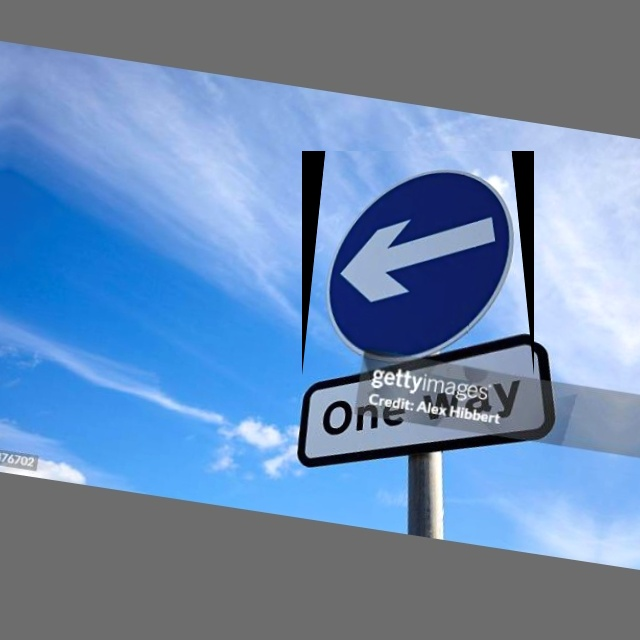Compulsory_Turn_Left: (302, 151, 534, 376)
